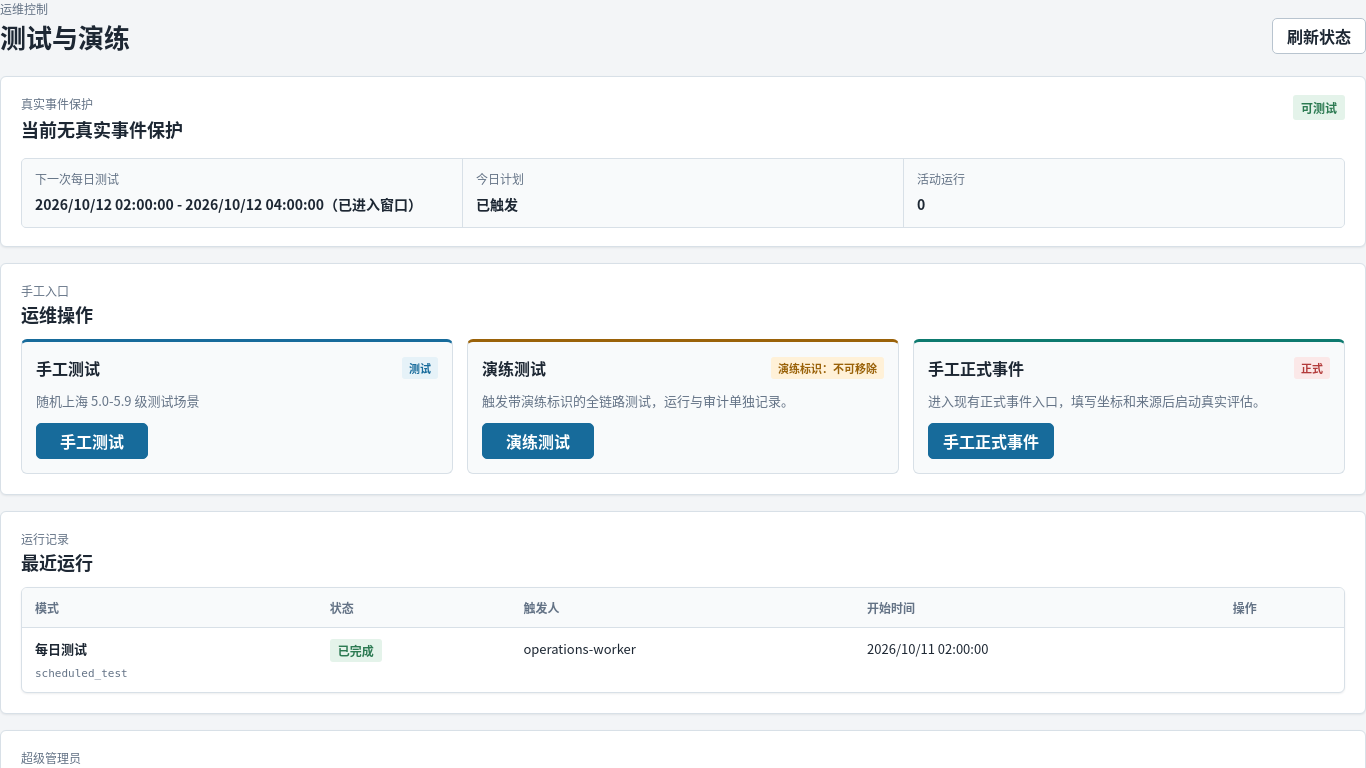
Test case: reuses the same idempotency key when the same request is retried
Click the button "手工测试" at (92, 441), box [36,423,148,459]
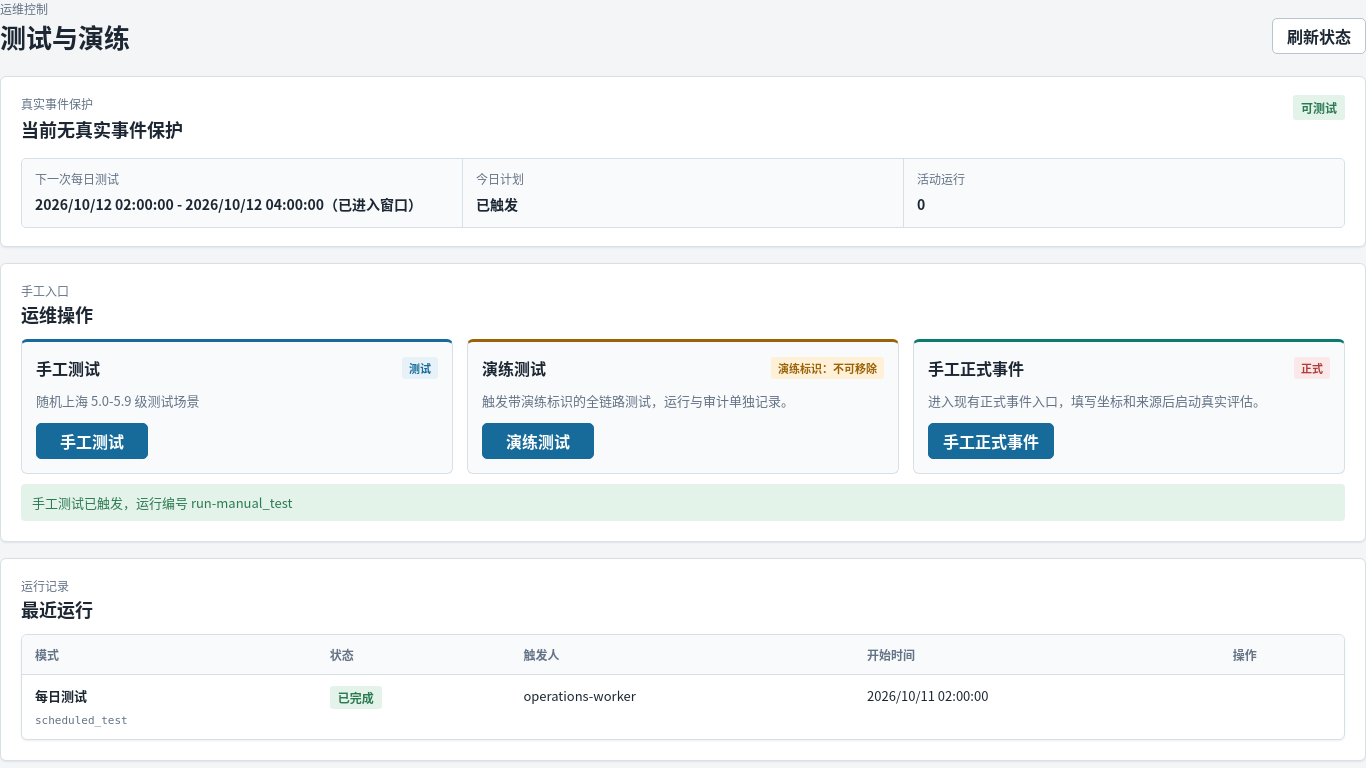
Check: the text "手工测试已触发，运行编号 run-manual_test" is shown, box [21,484,1345,521]
